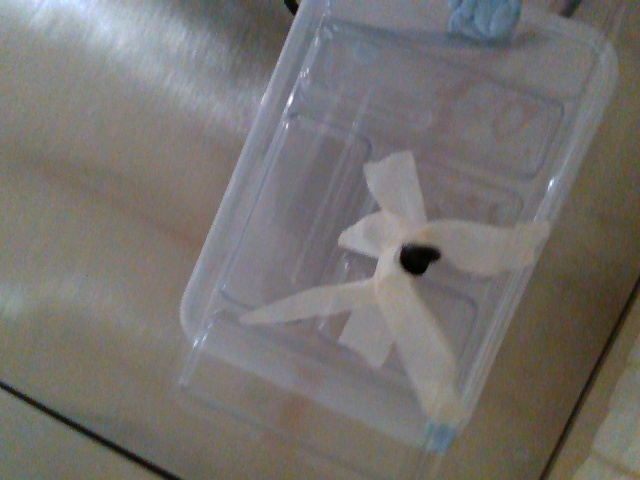test_strip: (395, 241, 443, 265)
